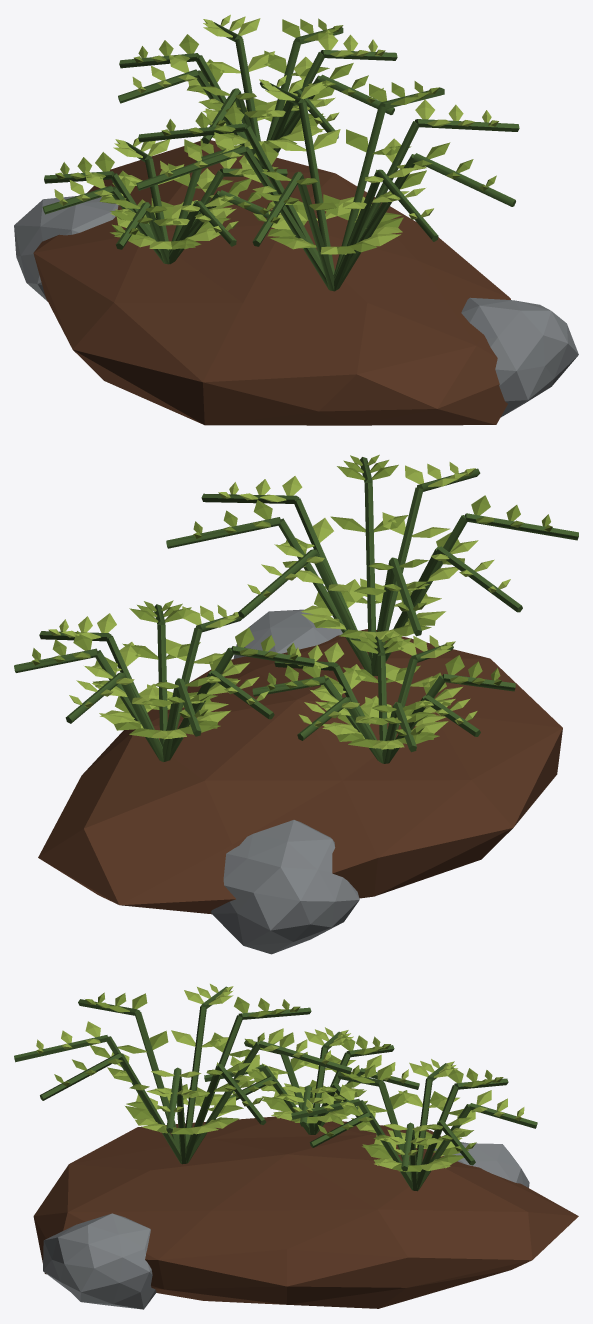
File: 278_woodland_fern_bank.fbx
3 views of the same model, one above another, from view 1: azimuth 30°, elevation 25°; view 2: azimuth 150°, elevation 25°; view 3: azimuth 270°, elevation 25° (orthographic). The views are drawn at different scales.
Parts seen in each view (by area): view 1: 278_woodland_fern_bank; view 2: 278_woodland_fern_bank; view 3: 278_woodland_fern_bank.
Part boxes in pixels (x1,y1,x2,y2): 278_woodland_fern_bank: (14, 14, 578, 425); 278_woodland_fern_bank: (14, 454, 578, 954); 278_woodland_fern_bank: (14, 984, 578, 1309).
Size of the model in its own units: 1.48 by 0.9855 by 2.2.
1 material, 1 textured.
